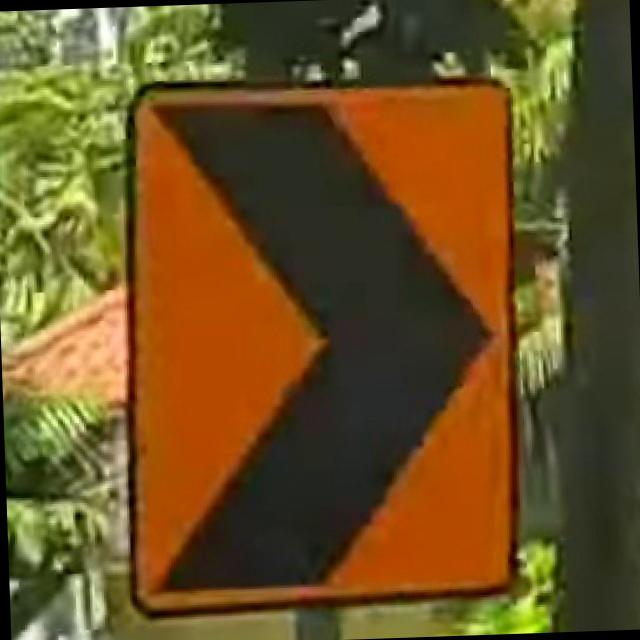curveright_sign: (106, 64, 532, 616)
